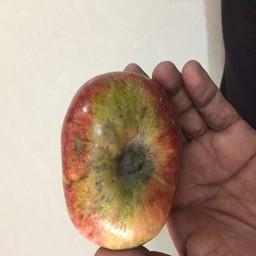Bad_apple: (58, 59, 181, 254)
